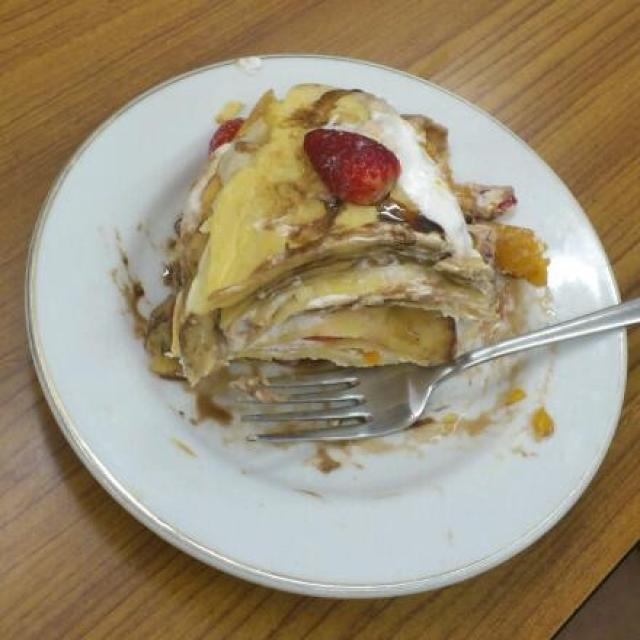蛋糕甜品: (87, 68, 573, 514)
